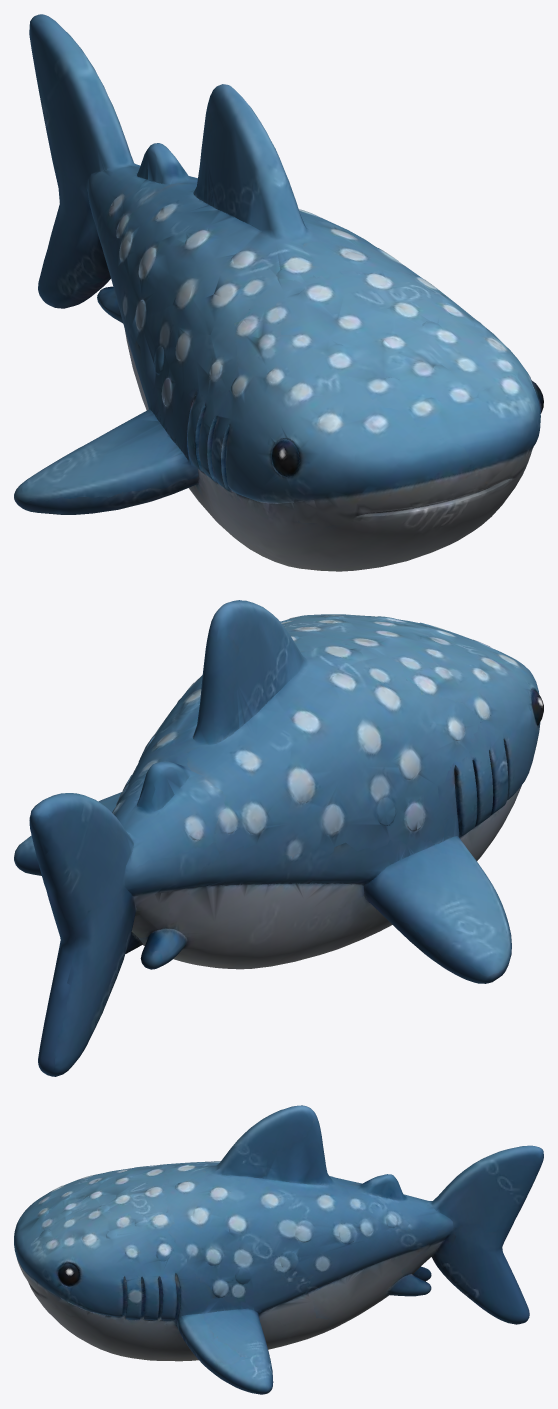
Rendered from whaleshark_pbr.glb.
3 renders of one model, top to bottom at view 1: azimuth 30°, elevation 25°; view 2: azimuth 150°, elevation 25°; view 3: azimuth 270°, elevation 25°, orthographic. The views are drawn at different scales.
Parts seen in each view (by area): view 1: model; view 2: model; view 3: model.
Part boxes in pixels (box(x1,y1,x2,y2)): model: box(14, 14, 543, 571); model: box(14, 600, 543, 1076); model: box(14, 1105, 543, 1394).
Bounding box in the file's own units: 1.23 × 0.9273 × 1.84.
Materials: 1 (1 with a texture image).
